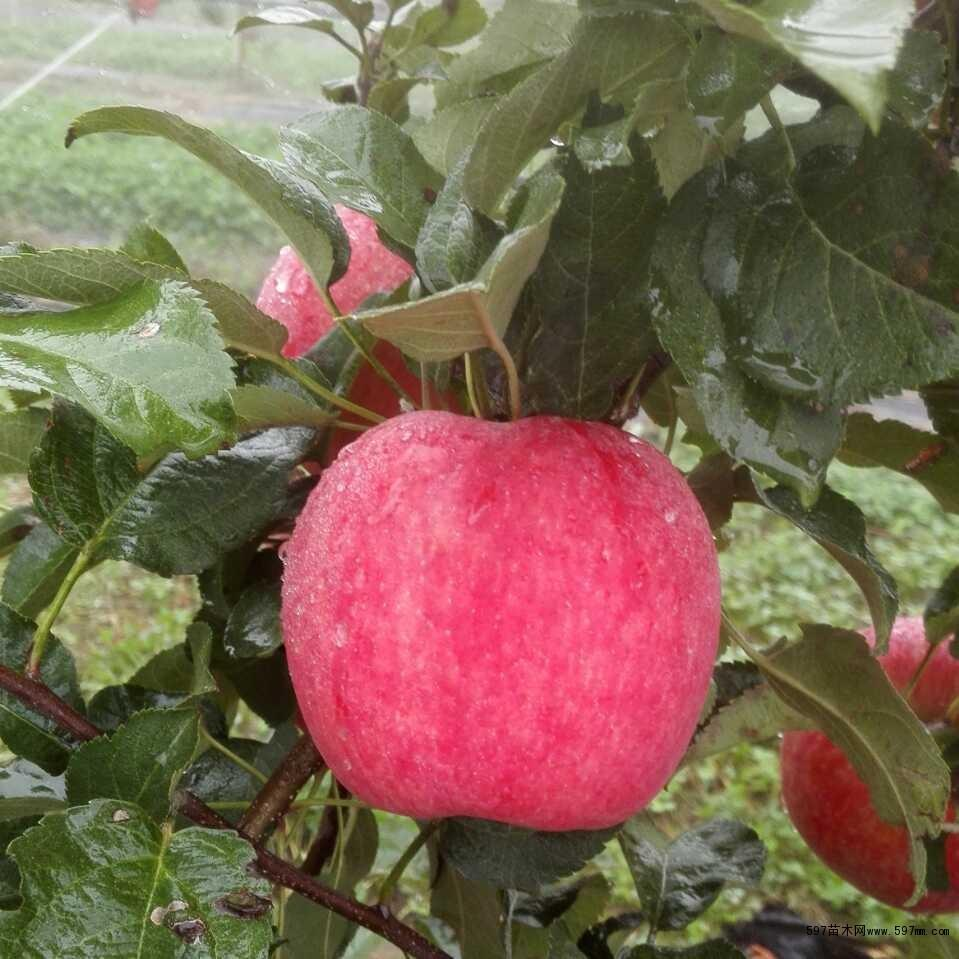apple: (281, 410, 727, 830)
